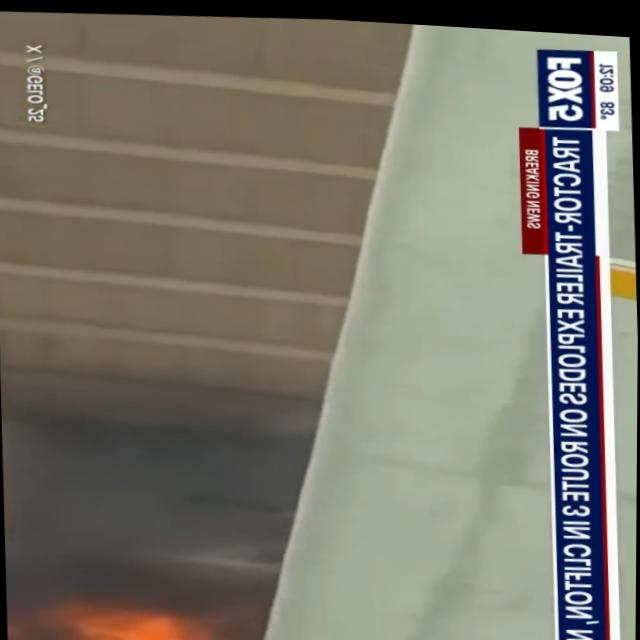Fire: (57, 588, 249, 640)
